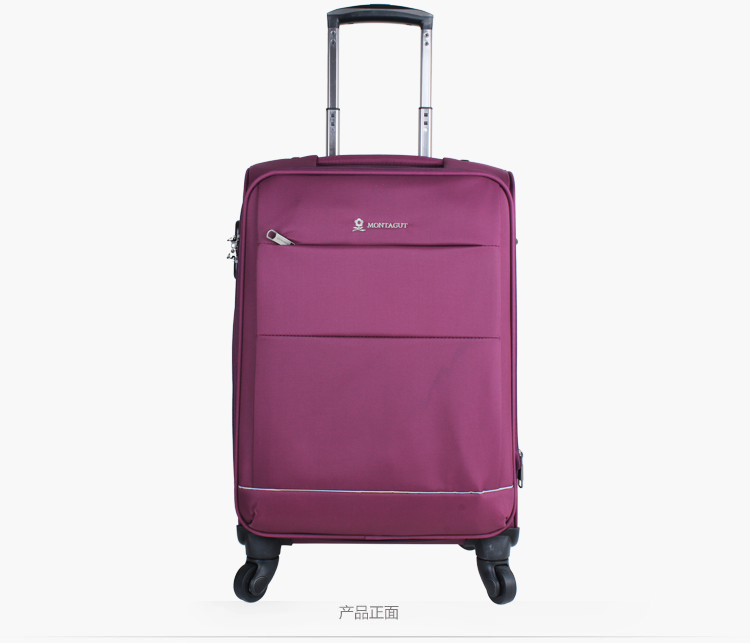luggage: (234, 4, 538, 607)
